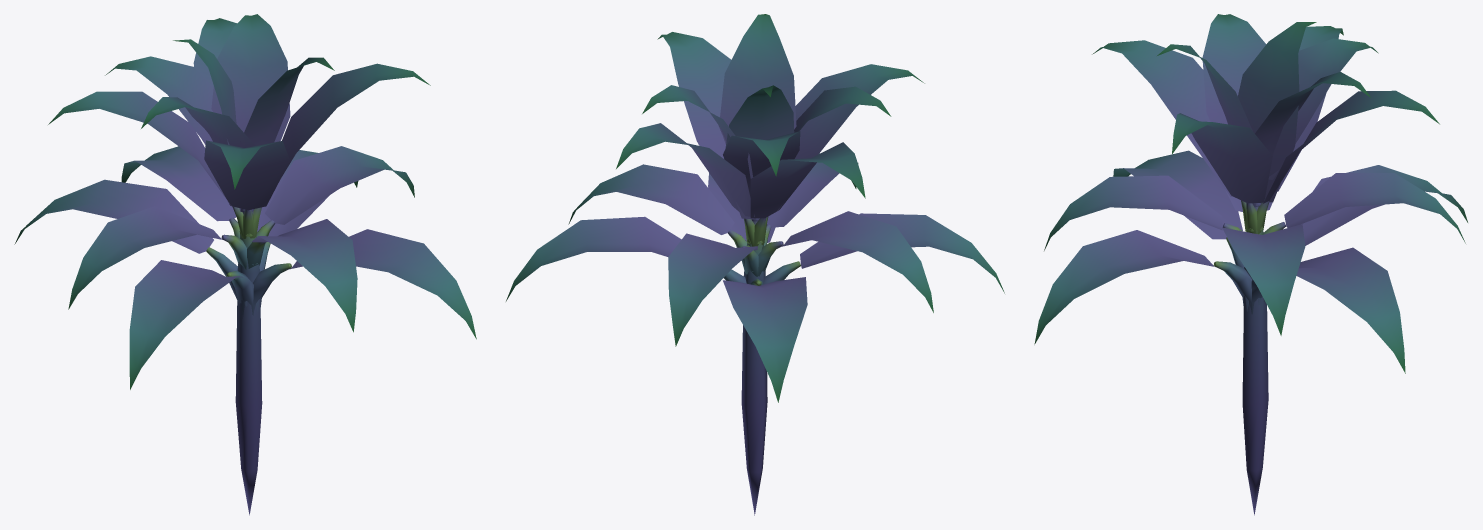
Rendered from plants-leafy-plants-bromeliad_v1.glb.
3 views of the same model, side by side, from view 1: azimuth 30°, elevation 25°; view 2: azimuth 150°, elevation 25°; view 3: azimuth 270°, elevation 25° (orthographic). The views are drawn at different scales.
Visible parts, largest first — view 1: Bromeliad_v1; view 2: Bromeliad_v1; view 3: Bromeliad_v1.
Part boxes in pixels (x1,y1,x2,y2): Bromeliad_v1: (14, 14, 476, 515); Bromeliad_v1: (506, 14, 1004, 515); Bromeliad_v1: (1034, 14, 1467, 515).
Size of the model in its own units: 0.4056 by 0.5 by 0.4059.
